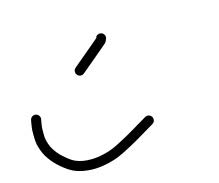s: (12, 108, 172, 177)
